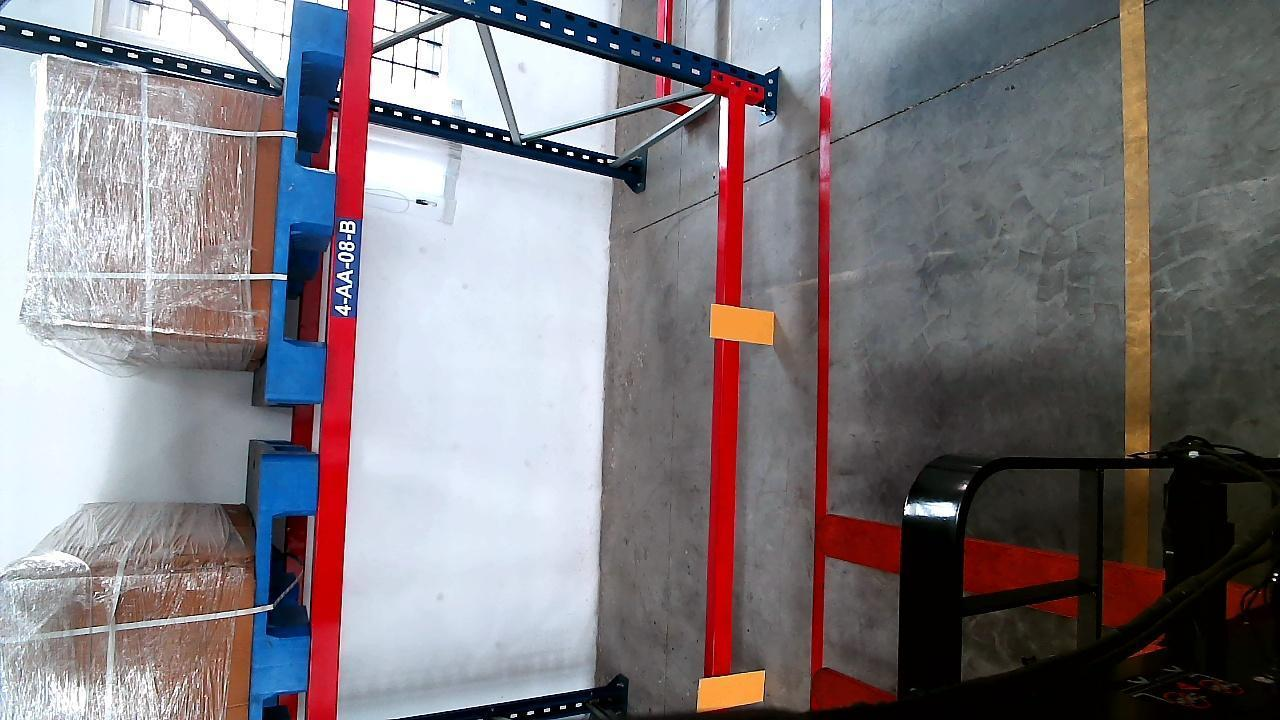h_rack: (316, 12, 376, 718), (708, 92, 748, 705)
orange_strip: (696, 670, 766, 713), (712, 305, 776, 342)
red_line: (812, 62, 835, 670)
small_pallet: (267, 0, 351, 402), (251, 461, 318, 714)
yellow_line: (1121, 0, 1153, 516)
